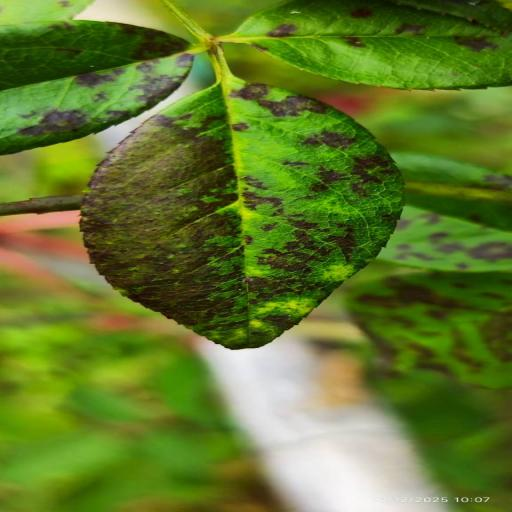black_spot: (81, 76, 402, 348), (220, 0, 511, 90), (0, 20, 192, 154)
